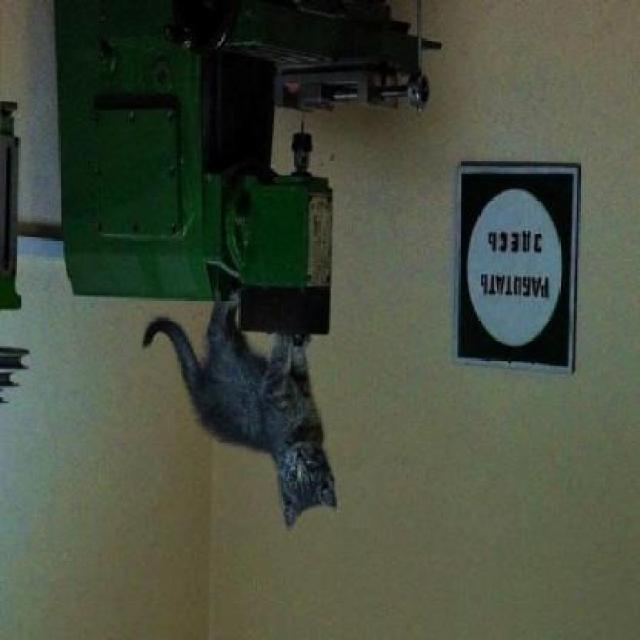cat: (133, 296, 338, 530)
